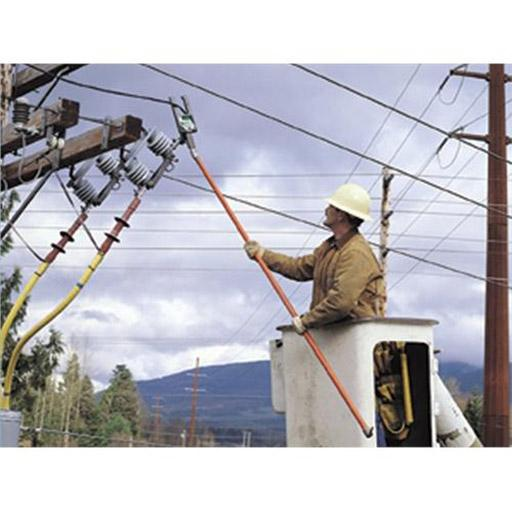Vara_Manobra: (188, 150, 374, 438)
